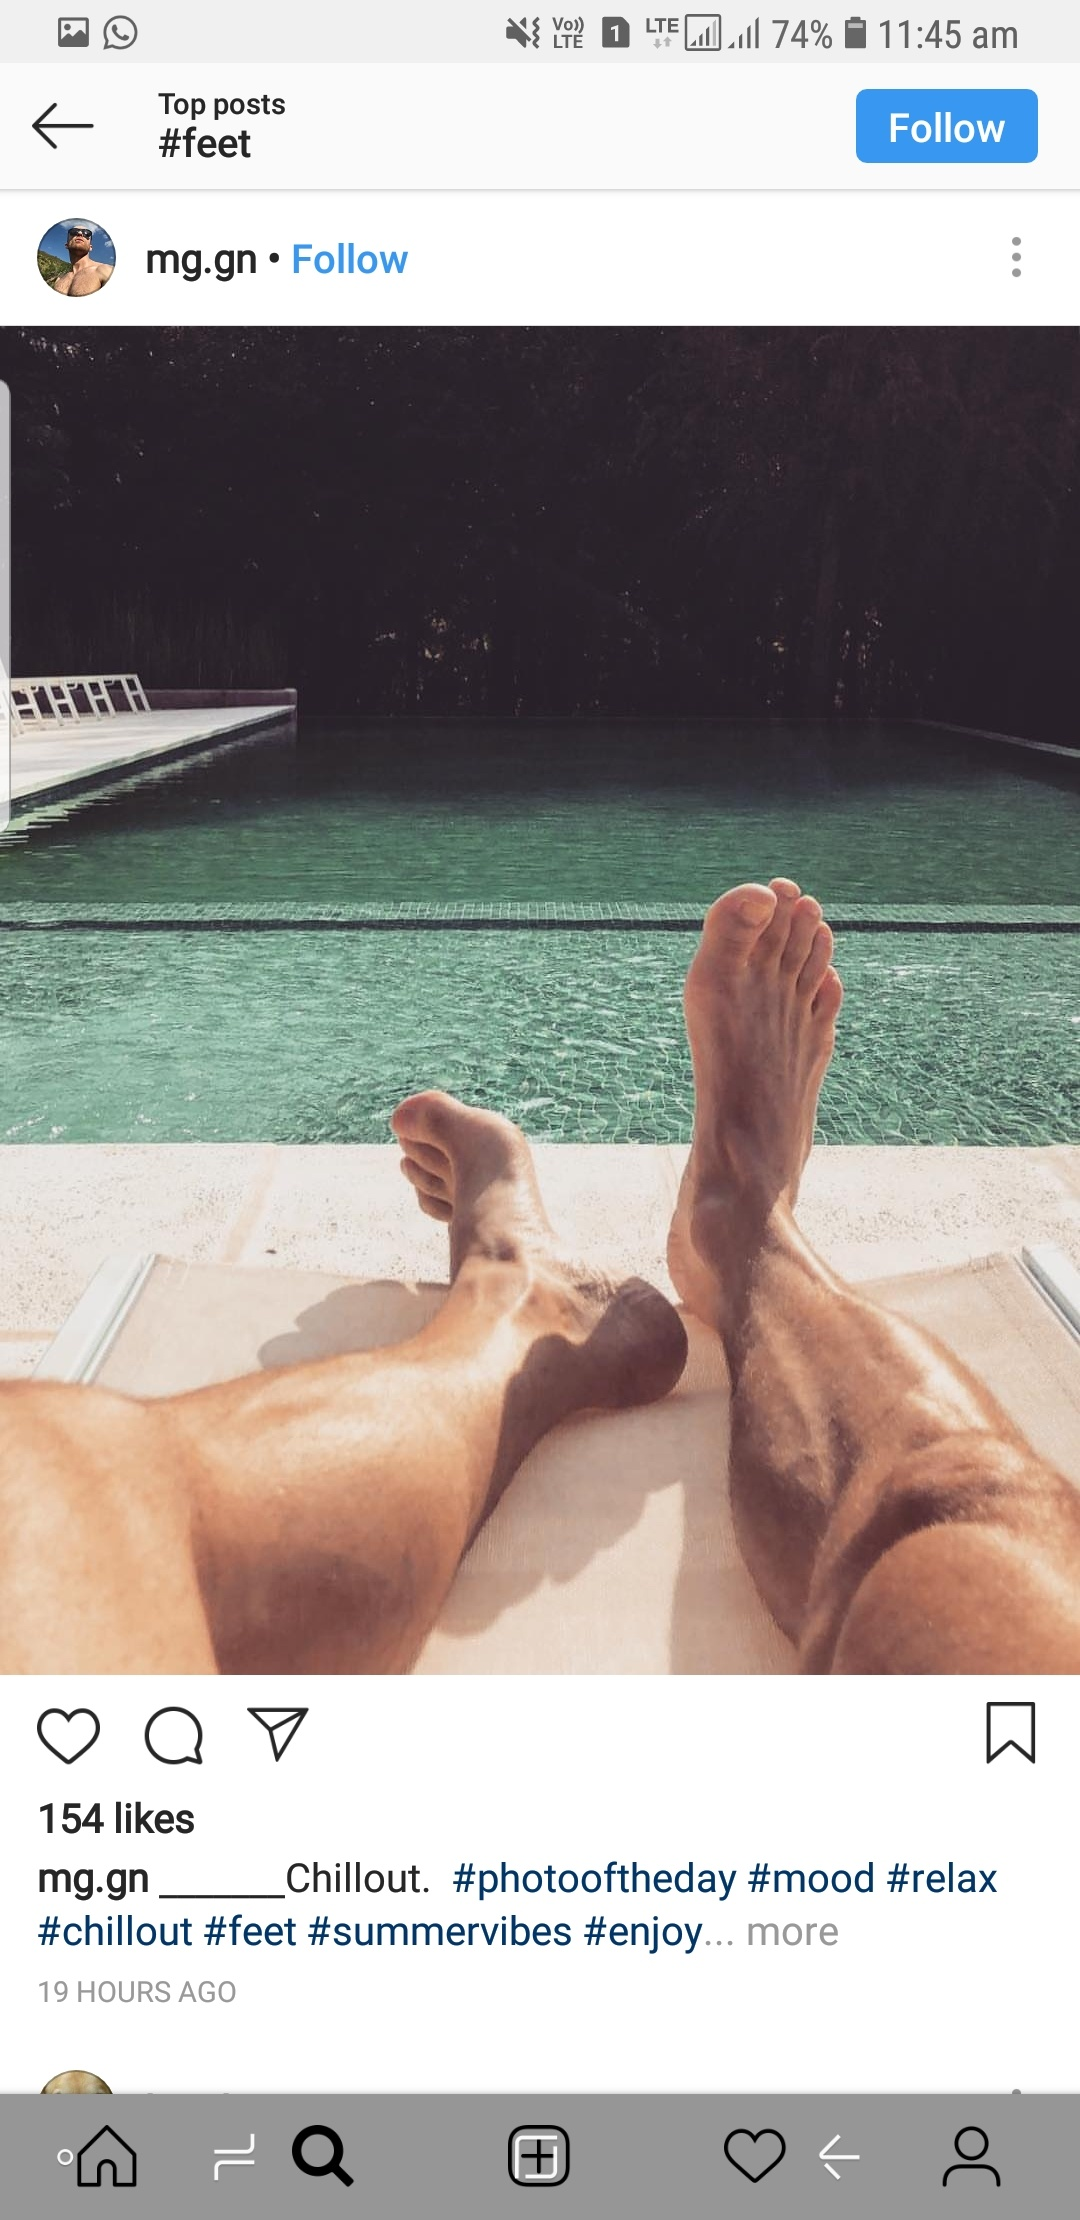feet: (628, 835, 863, 1329), (352, 1053, 671, 1407)
